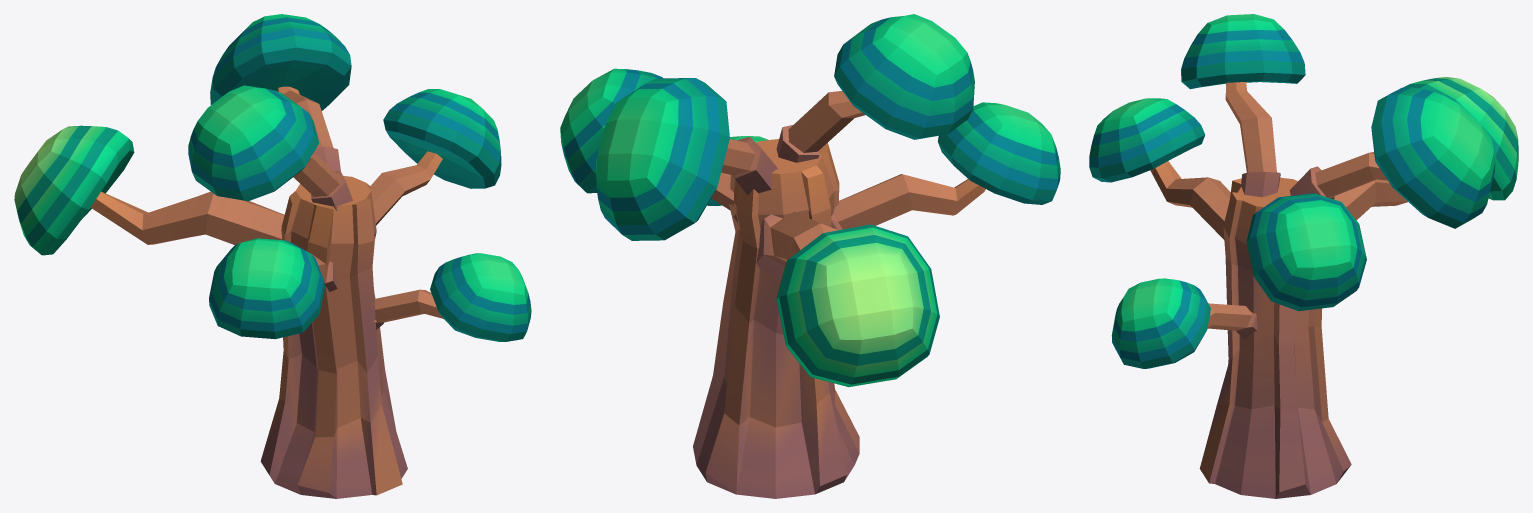
File: Tree_Small_D.fbx
3 renders of one model, left to right at view 1: azimuth 30°, elevation 25°; view 2: azimuth 150°, elevation 25°; view 3: azimuth 270°, elevation 25°, orthographic. The views are drawn at different scales.
Visible parts, largest first — view 1: Tree_Small_D; view 2: Tree_Small_D; view 3: Tree_Small_D.
Boxes of the visible parts, box(x1,y1,x2,y2) form: Tree_Small_D: box(14, 14, 531, 498); Tree_Small_D: box(560, 14, 1060, 498); Tree_Small_D: box(1089, 14, 1518, 498).
Bounding box in the file's own units: 168 × 166 × 160.
